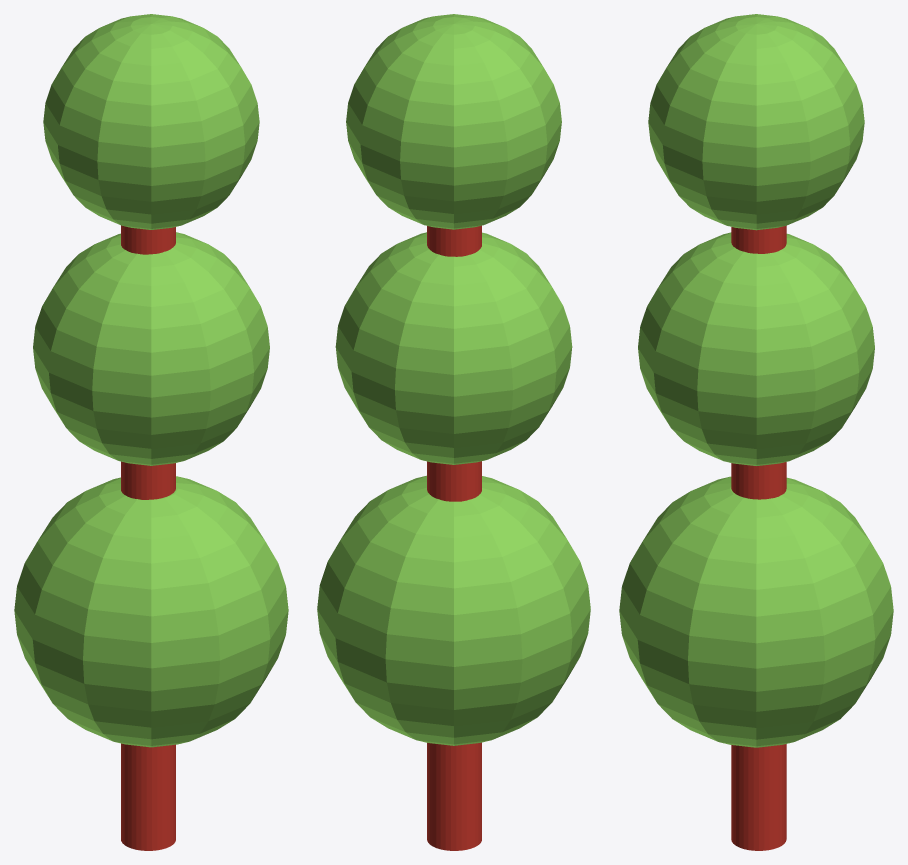
The model's file is weirdtree.fbx.
3 views of the same model, side by side, from view 1: azimuth 30°, elevation 25°; view 2: azimuth 150°, elevation 25°; view 3: azimuth 270°, elevation 25° (orthographic).
Parts seen in each view (by area): view 1: Sphere.002; view 2: Sphere.002; view 3: Sphere.002.
Part boxes in pixels (x1,y1,x2,y2): Sphere.002: (14, 14, 288, 850); Sphere.002: (317, 14, 590, 850); Sphere.002: (619, 14, 893, 850).
Bounding box in the file's own units: 307 × 1008 × 307.
